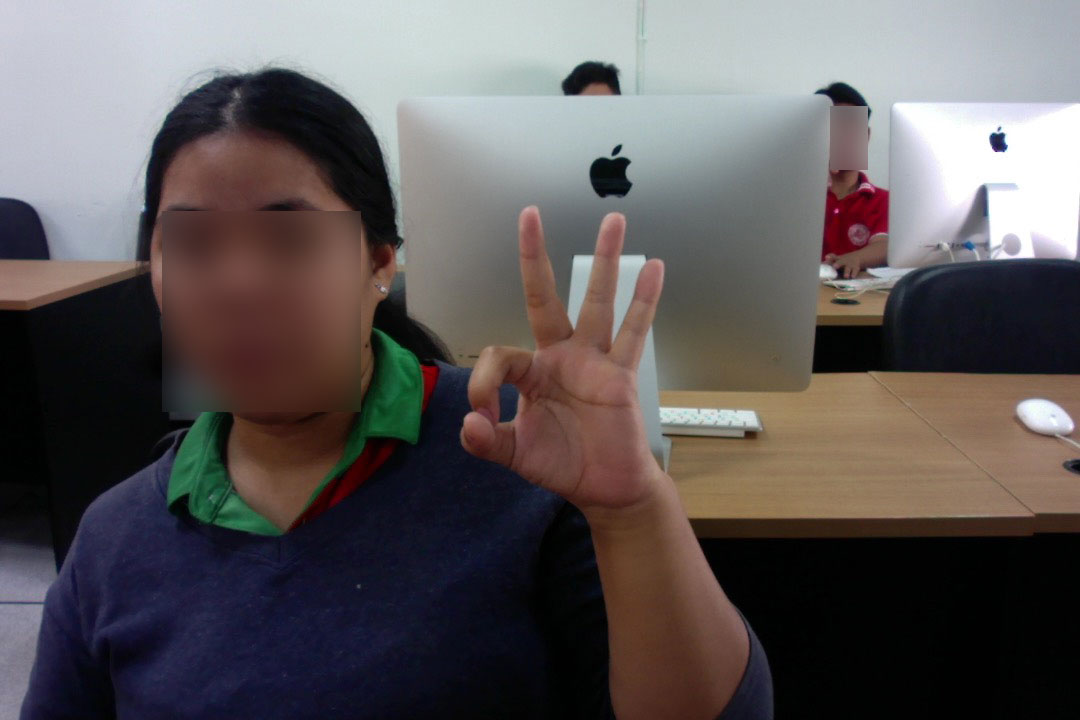for: (448, 190, 683, 525)
